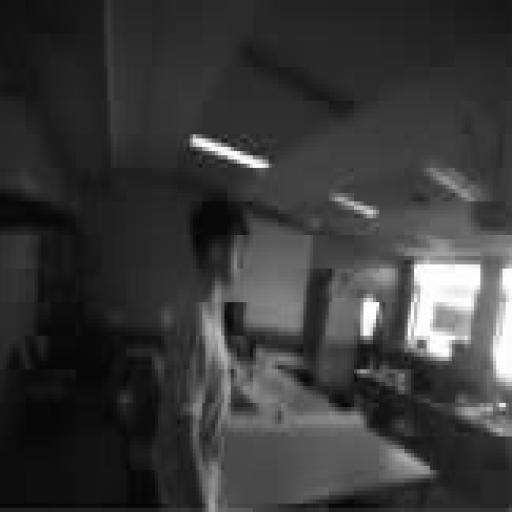human: (155, 198, 249, 511)
